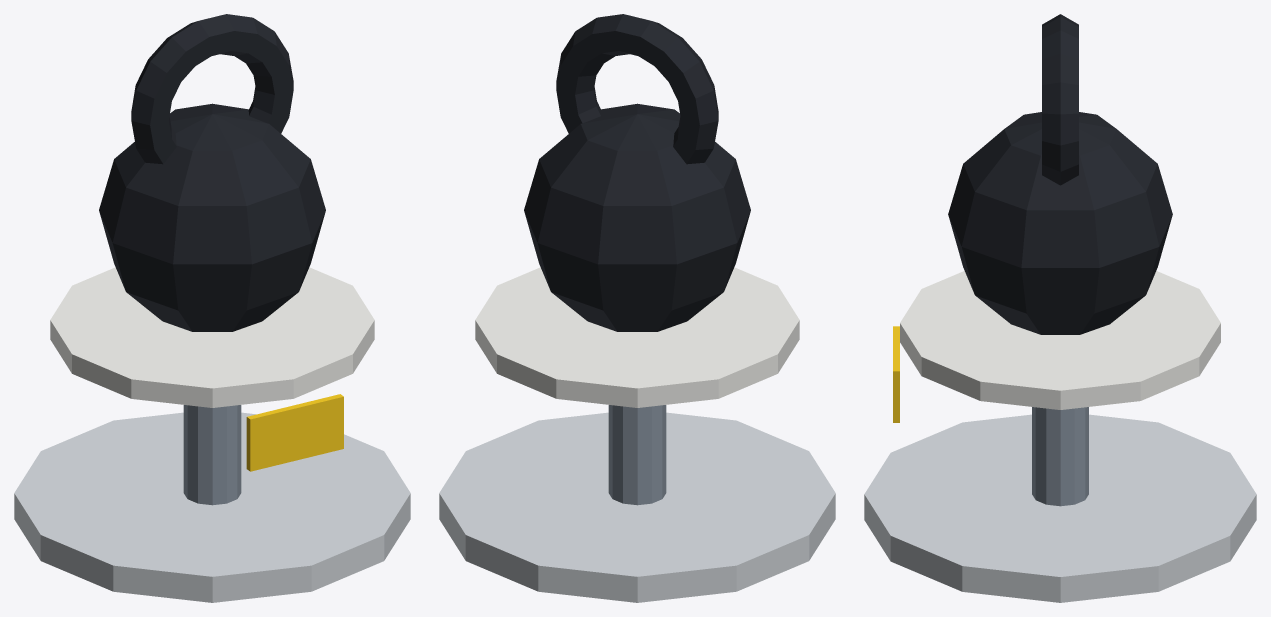
Rendered from item-kettlebell.glb.
3 views of the same model, side by side, from view 1: azimuth 30°, elevation 25°; view 2: azimuth 150°, elevation 25°; view 3: azimuth 270°, elevation 25° (orthographic).
Parts seen in each view (by area): view 1: item-kettlebell; view 2: item-kettlebell; view 3: item-kettlebell.
Part boxes in pixels (x1=…): item-kettlebell: x1=14, y1=14, x2=410, y2=602; item-kettlebell: x1=439, y1=14, x2=835, y2=602; item-kettlebell: x1=864, y1=14, x2=1256, y2=602.
Size of the model in its own units: 1.1 by 1.54 by 1.1.
